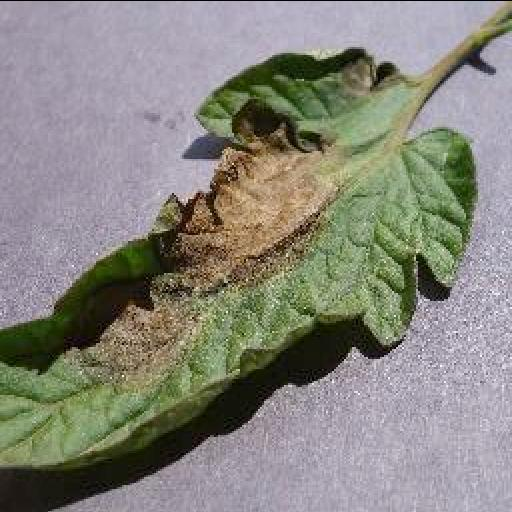disease_tomato: (0, 46, 476, 478)
